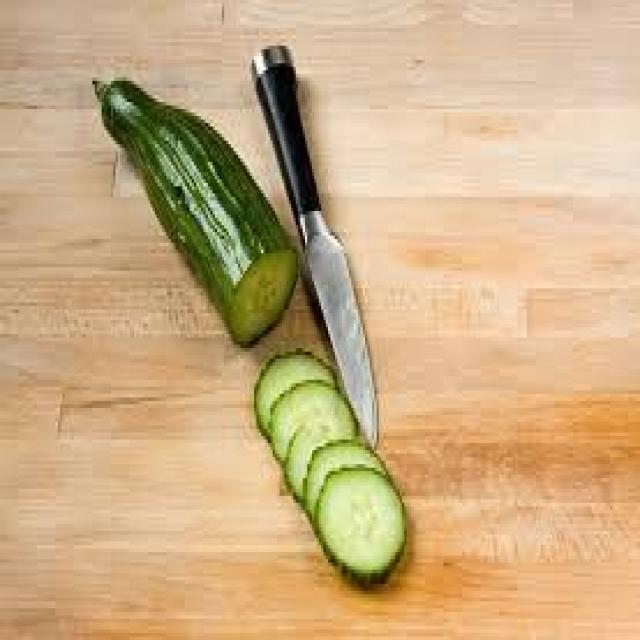organic waste: (90, 70, 296, 341), (312, 464, 404, 577), (266, 376, 356, 478), (301, 432, 384, 528), (252, 348, 335, 433), (282, 415, 353, 499)
